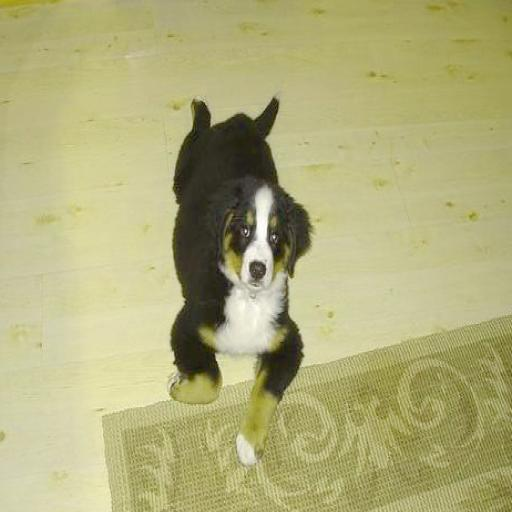dog_face: (219, 183, 310, 289)
